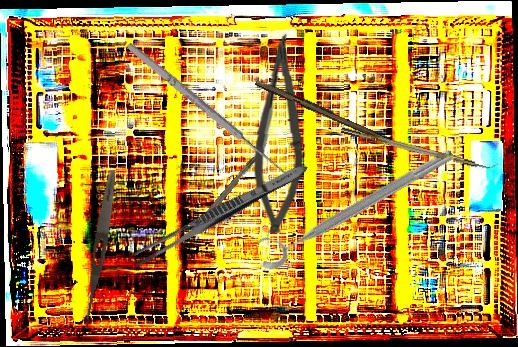Chopper: (340, 120, 499, 174)
Dressing Forceps: (128, 158, 312, 271), (80, 168, 120, 330)
Fixation Ring: (248, 133, 459, 275)
Hook Surgical: (122, 33, 304, 186), (188, 141, 270, 237)
Micro Scissor: (250, 34, 306, 233)
Scalpel Handle: (253, 77, 396, 146)
